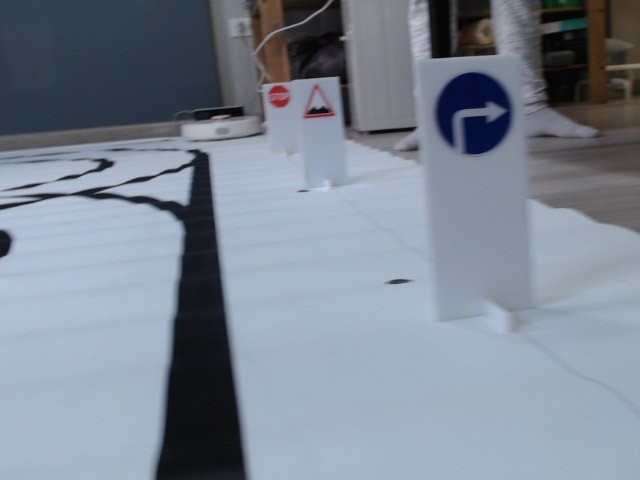Nerov: (302, 84, 337, 119)
Right: (434, 71, 513, 157)
